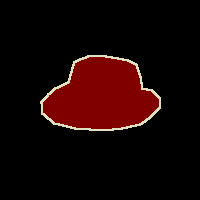hat: (41, 55, 160, 130)
